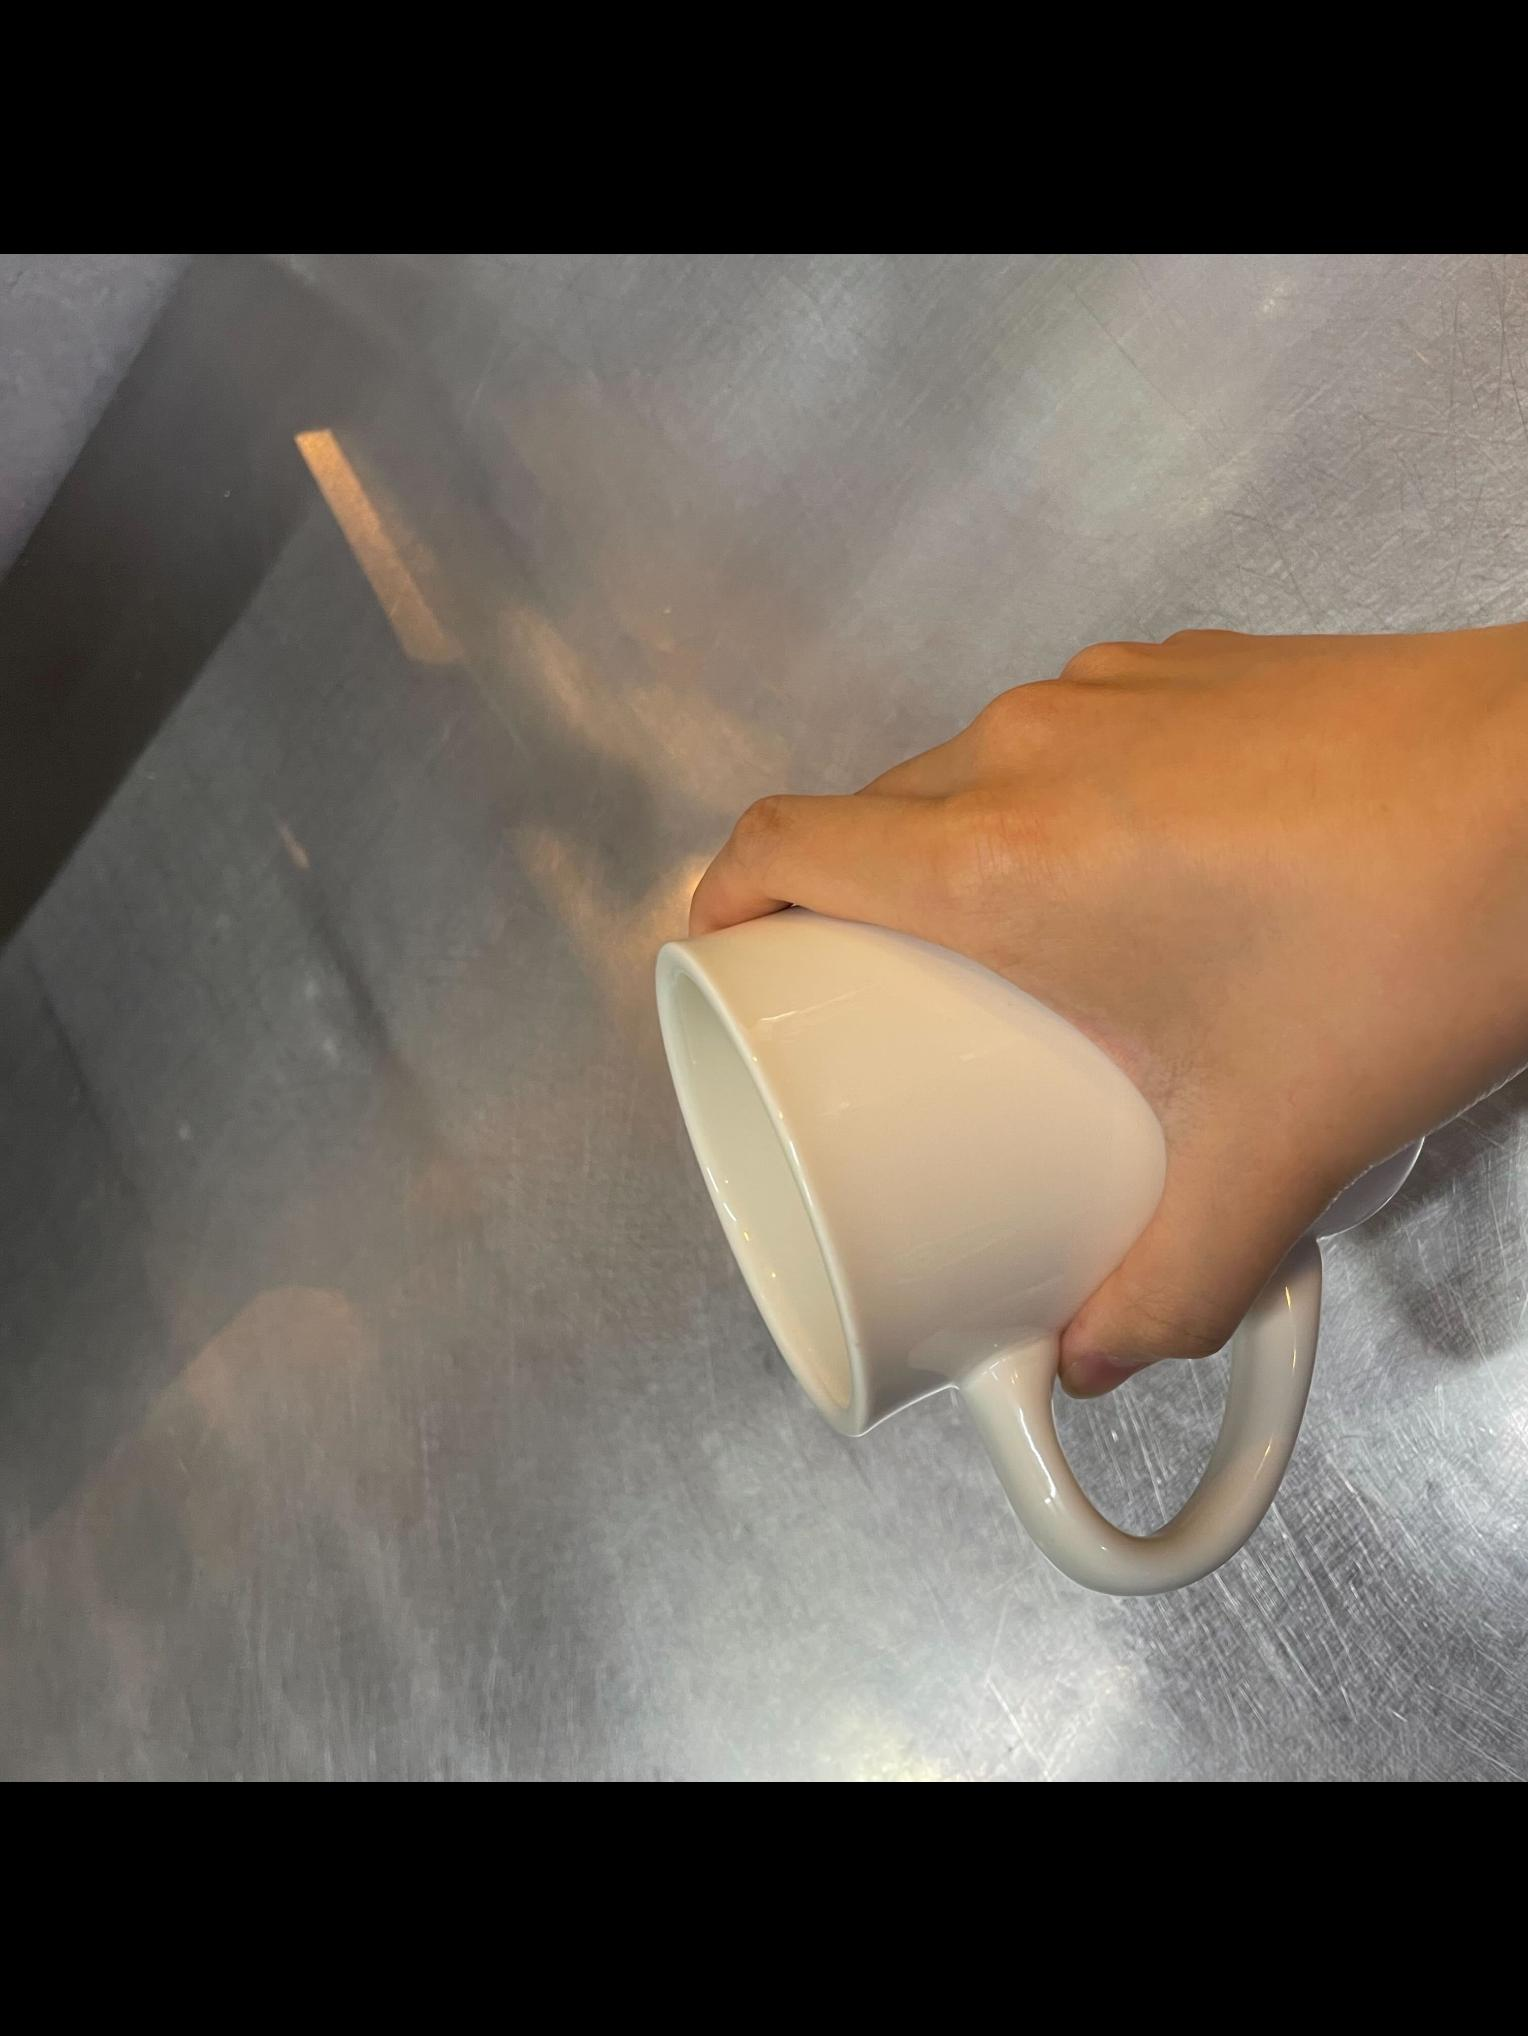cup: (632, 603, 1528, 1622)
